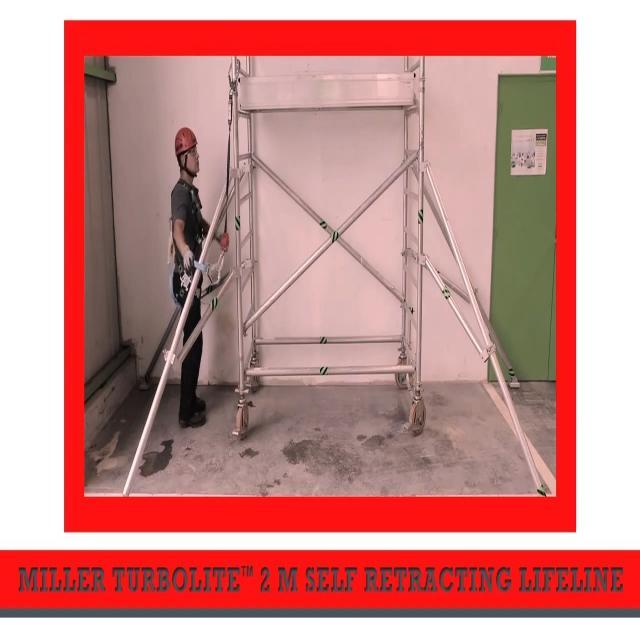belt: (167, 173, 210, 314)
